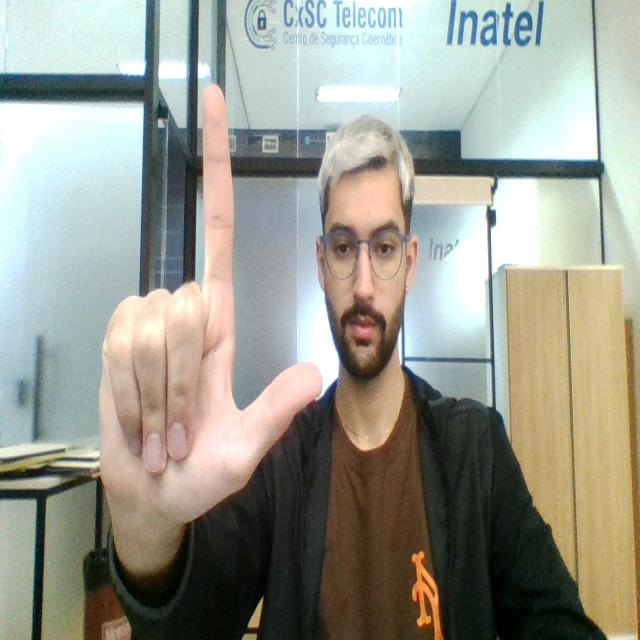L: (93, 73, 323, 526)
